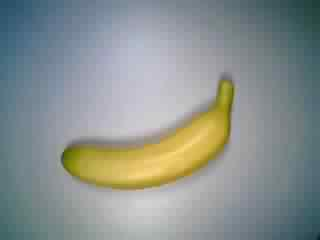banana: (55, 71, 242, 188)
